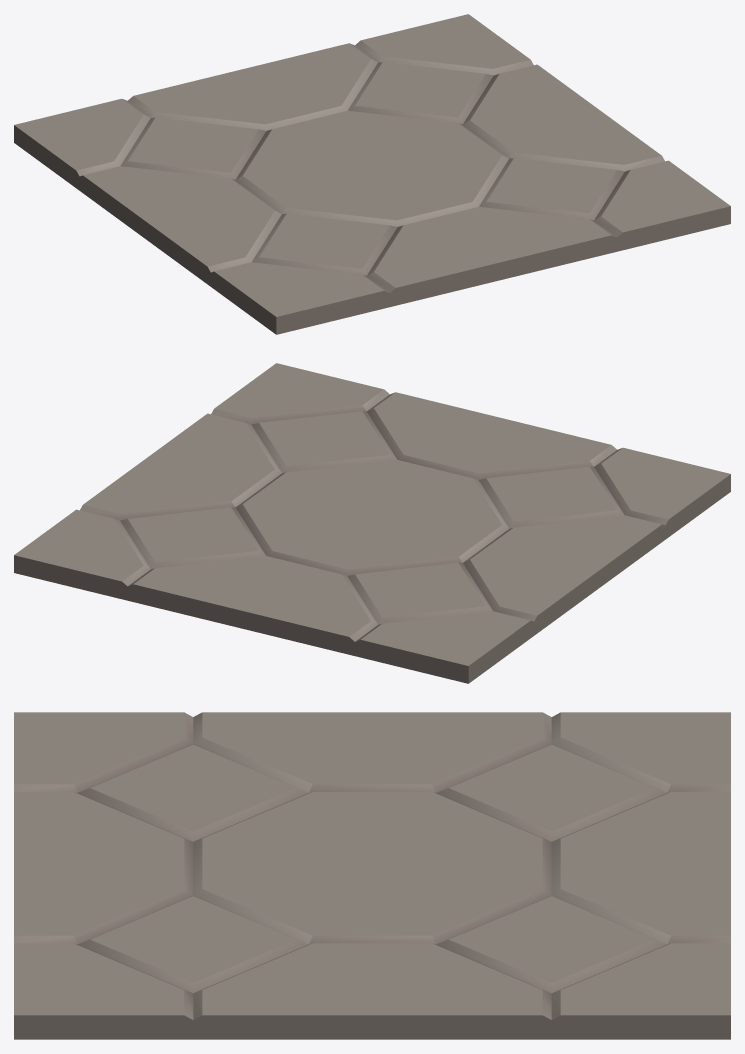
File: dungeon-floor.glb
3 renders of one model, top to bottom at view 1: azimuth 30°, elevation 25°; view 2: azimuth 150°, elevation 25°; view 3: azimuth 270°, elevation 25°, orthographic. The views are drawn at different scales.
Parts seen in each view (by area): view 1: dungeon-floor; view 2: dungeon-floor; view 3: dungeon-floor.
Part boxes in pixels (<box>): dungeon-floor: <box>14,14,730,334</box>; dungeon-floor: <box>14,363,730,683</box>; dungeon-floor: <box>14,712,730,1039</box>.
Bounding box in the file's own units: 3 × 0.1124 × 3.
1 material, 1 textured.
